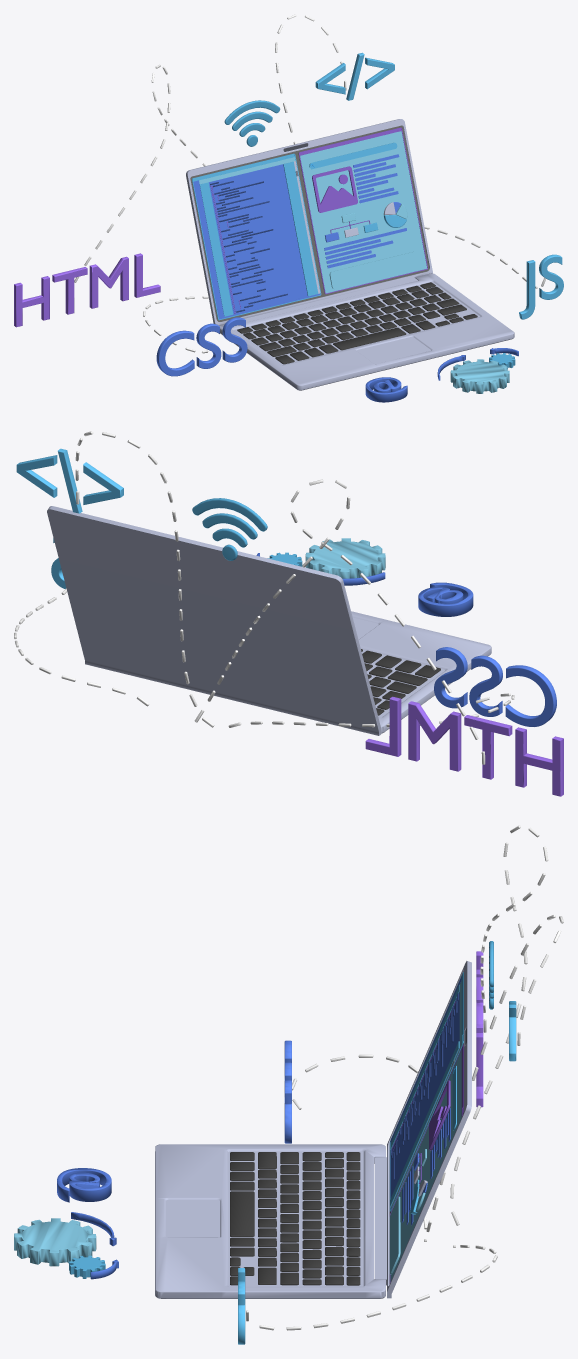
File: notebook3D.glb
3 renders of one model, top to bottom at view 1: azimuth 30°, elevation 25°; view 2: azimuth 150°, elevation 25°; view 3: azimuth 270°, elevation 25°, orthographic. The views are drawn at different scales.
Parts seen in each view (by area): view 1: laptop body_Material.001_0, Window 2 detail 001_Material.012_0, Window 1 detail 001_Material.015_0, laptop key bord_Material_0, laptop screen_Material.001_0, HTML_text.002_0, Window 1 detail 002_Material.018_0, laptop screen_Material.002_0, CSS_text_0, Window 2 detail 002_Material.005_0, Window 1 detail 002_Material.021_0, Gears_light green_0 (+12 smaller); view 2: laptop screen_Material.001_0, HTML_text.002_0, laptop body_Material.001_0, CSS_text_0, Lines_line_0, Gears_light green_0, laptop key bord_Material_0, </>_text.001_0, Wi-Fi_Material.022_0, @_Material.025_0; view 3: laptop body_Material.001_0, laptop key bord_Material_0, laptop screen_Material.001_0, Lines_line_0, Gears_light green_0, Window 2 detail 001_Material.012_0, Window 1 detail 001_Material.015_0, @_Material.025_0, Window 2 detail 002_Material.005_0, HTML_text.002_0, Window 1 detail 002_Material.018_0, CSS_text_0 (+6 smaller).
Boxes of the visible parts, left/top/right/bottom form: laptop body_Material.001_0: left=219, top=273, right=514, bottom=390; Window 2 detail 001_Material.012_0: left=209, top=164, right=307, bottom=314; Window 1 detail 001_Material.015_0: left=300, top=131, right=427, bottom=293; laptop key bord_Material_0: left=237, top=282, right=477, bottom=364; laptop screen_Material.001_0: left=186, top=119, right=432, bottom=325; HTML_text.002_0: left=14, top=253, right=160, bottom=327; Window 1 detail 002_Material.018_0: left=324, top=154, right=406, bottom=268; laptop screen_Material.002_0: left=190, top=125, right=429, bottom=321; CSS_text_0: left=156, top=317, right=247, bottom=376; Window 2 detail 002_Material.005_0: left=210, top=181, right=287, bottom=312; Window 1 detail 002_Material.021_0: left=329, top=251, right=419, bottom=289; Gears_light green_0: left=450, top=359, right=509, bottom=393; laptop screen_Material.001_0: left=47, top=506, right=381, bottom=735; HTML_text.002_0: left=365, top=696, right=563, bottom=796; laptop body_Material.001_0: left=351, top=611, right=491, bottom=733; CSS_text_0: left=434, top=647, right=556, bottom=726; Lines_line_0: left=14, top=431, right=514, bottom=764; Gears_light green_0: left=305, top=538, right=385, bottom=578; laptop key bord_Material_0: left=361, top=649, right=440, bottom=715; </>_text.001_0: left=16, top=448, right=123, bottom=513; Wi-Fi_Material.022_0: left=192, top=498, right=267, bottom=560; @_Material.025_0: left=418, top=582, right=473, bottom=616; laptop body_Material.001_0: left=155, top=1144, right=385, bottom=1298; laptop key bord_Material_0: left=230, top=1152, right=360, bottom=1285; laptop screen_Material.001_0: left=374, top=961, right=471, bottom=1298; Lines_line_0: left=246, top=825, right=563, bottom=1330; Gears_light green_0: left=14, top=1218, right=96, bottom=1266; Window 2 detail 001_Material.012_0: left=391, top=992, right=459, bottom=1196; Window 1 detail 001_Material.015_0: left=390, top=1050, right=461, bottom=1282; @_Material.025_0: left=57, top=1168, right=111, bottom=1202; Window 2 detail 002_Material.005_0: left=390, top=993, right=458, bottom=1179; HTML_text.002_0: left=476, top=951, right=483, bottom=1107; Window 1 detail 002_Material.018_0: left=402, top=1108, right=450, bottom=1225; CSS_text_0: left=284, top=1040, right=291, bottom=1143.
Bounding box in the file's own units: 10.39 × 5.31 × 7.68.
